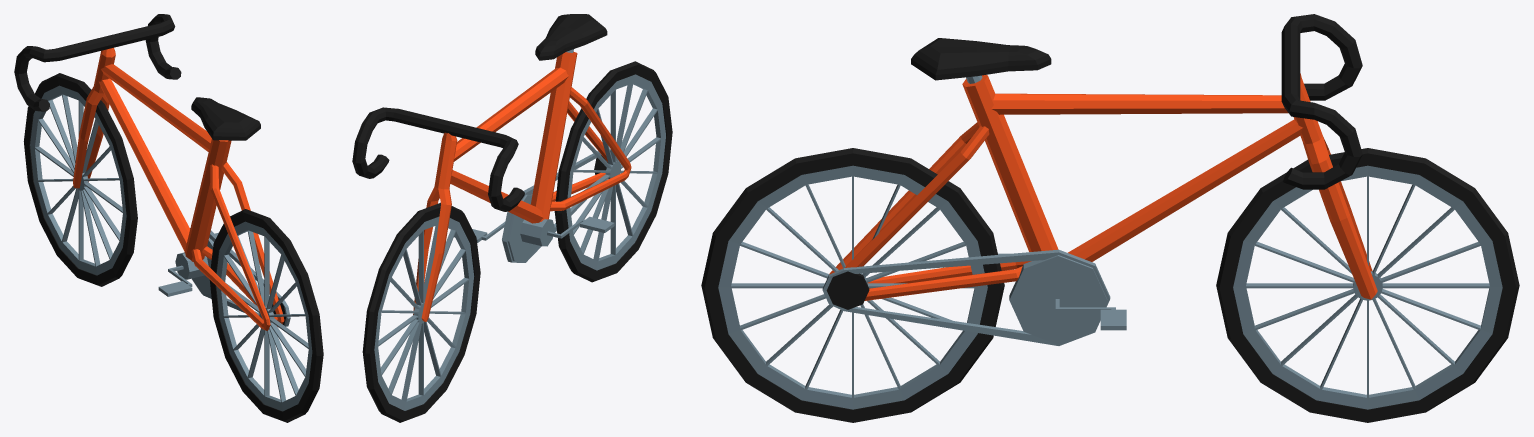
File: Bicycle.obj
The picture shows the model from 3 angles, left to right: view 1: azimuth 30°, elevation 25°; view 2: azimuth 150°, elevation 25°; view 3: azimuth 270°, elevation 25°; orthographic projection. The views are drawn at different scales.
Parts seen in each view (by area): view 1: Circle_004; view 2: Circle_004; view 3: Circle_004.
Boxes of the visible parts, bbox=[...] form: Circle_004: bbox=[14, 14, 323, 422]; Circle_004: bbox=[352, 14, 672, 422]; Circle_004: bbox=[701, 14, 1519, 422].
Size of the model in its own units: 5.46 by 9.96 by 19.58.
